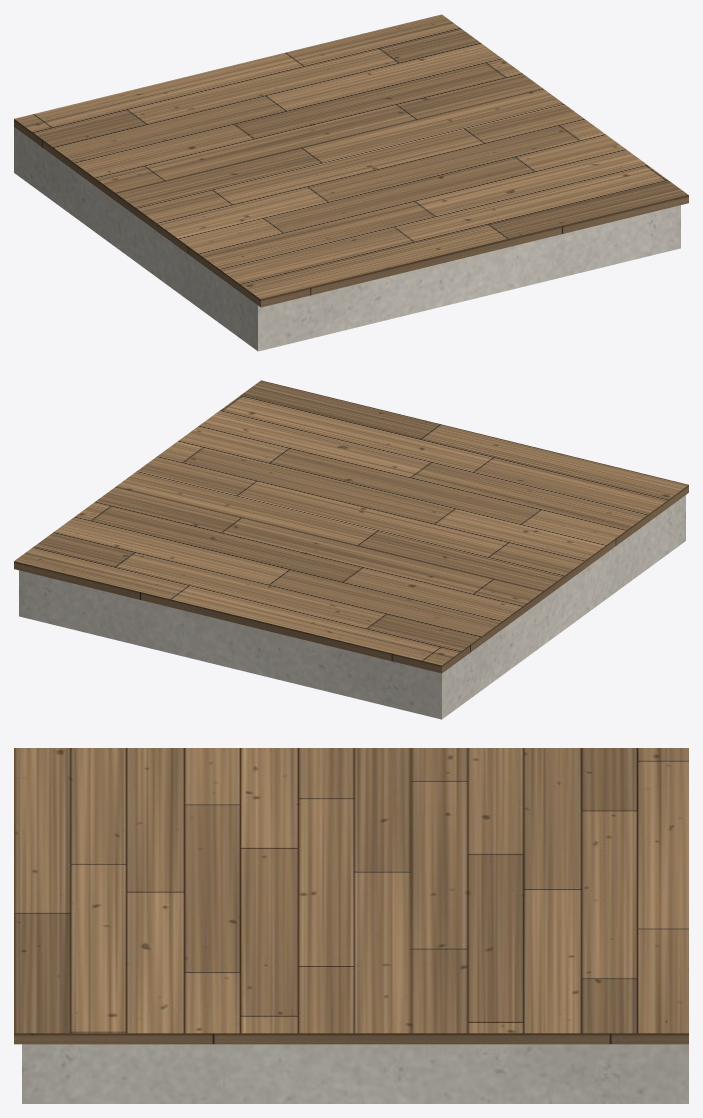
File: floor_wood_c_e30_0_30_0.glb
The picture shows the model from 3 angles, top to bottom: view 1: azimuth 30°, elevation 25°; view 2: azimuth 150°, elevation 25°; view 3: azimuth 270°, elevation 25°; orthographic projection. The views are drawn at different scales.
Visible parts, largest first — view 1: floor_wood_c_e30_0_30_0_attic, floor_wood_c_e30_0_30_0_plaster; view 2: floor_wood_c_e30_0_30_0_attic, floor_wood_c_e30_0_30_0_plaster; view 3: floor_wood_c_e30_0_30_0_attic, floor_wood_c_e30_0_30_0_plaster.
Boxes of the visible parts, x1=… form: floor_wood_c_e30_0_30_0_attic: x1=14, y1=14, x2=688, y2=307; floor_wood_c_e30_0_30_0_plaster: x1=14, y1=127, x2=680, y2=351; floor_wood_c_e30_0_30_0_attic: x1=14, y1=380, x2=688, y2=673; floor_wood_c_e30_0_30_0_plaster: x1=19, y1=495, x2=685, y2=719; floor_wood_c_e30_0_30_0_attic: x1=14, y1=748, x2=688, y2=1044; floor_wood_c_e30_0_30_0_plaster: x1=22, y1=1044, x2=688, y2=1103.
Bounding box in the file's own units: 1.7 × 0.205 × 1.7.
2 materials, 2 textured.
